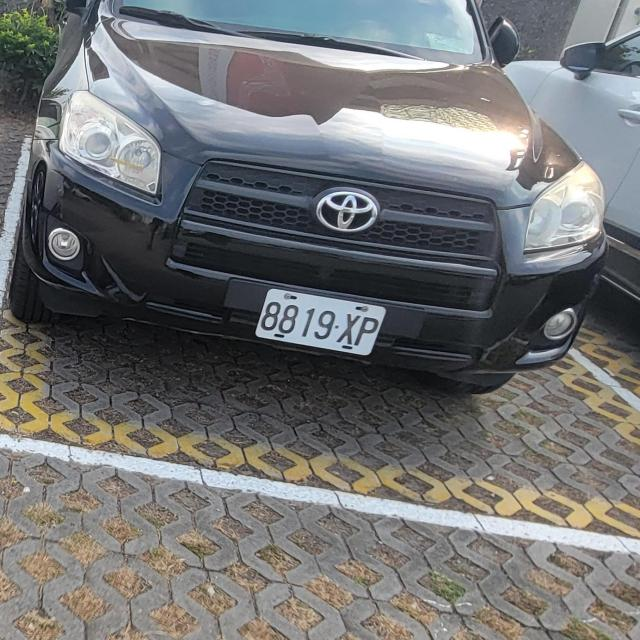W: (256, 285, 388, 358)
